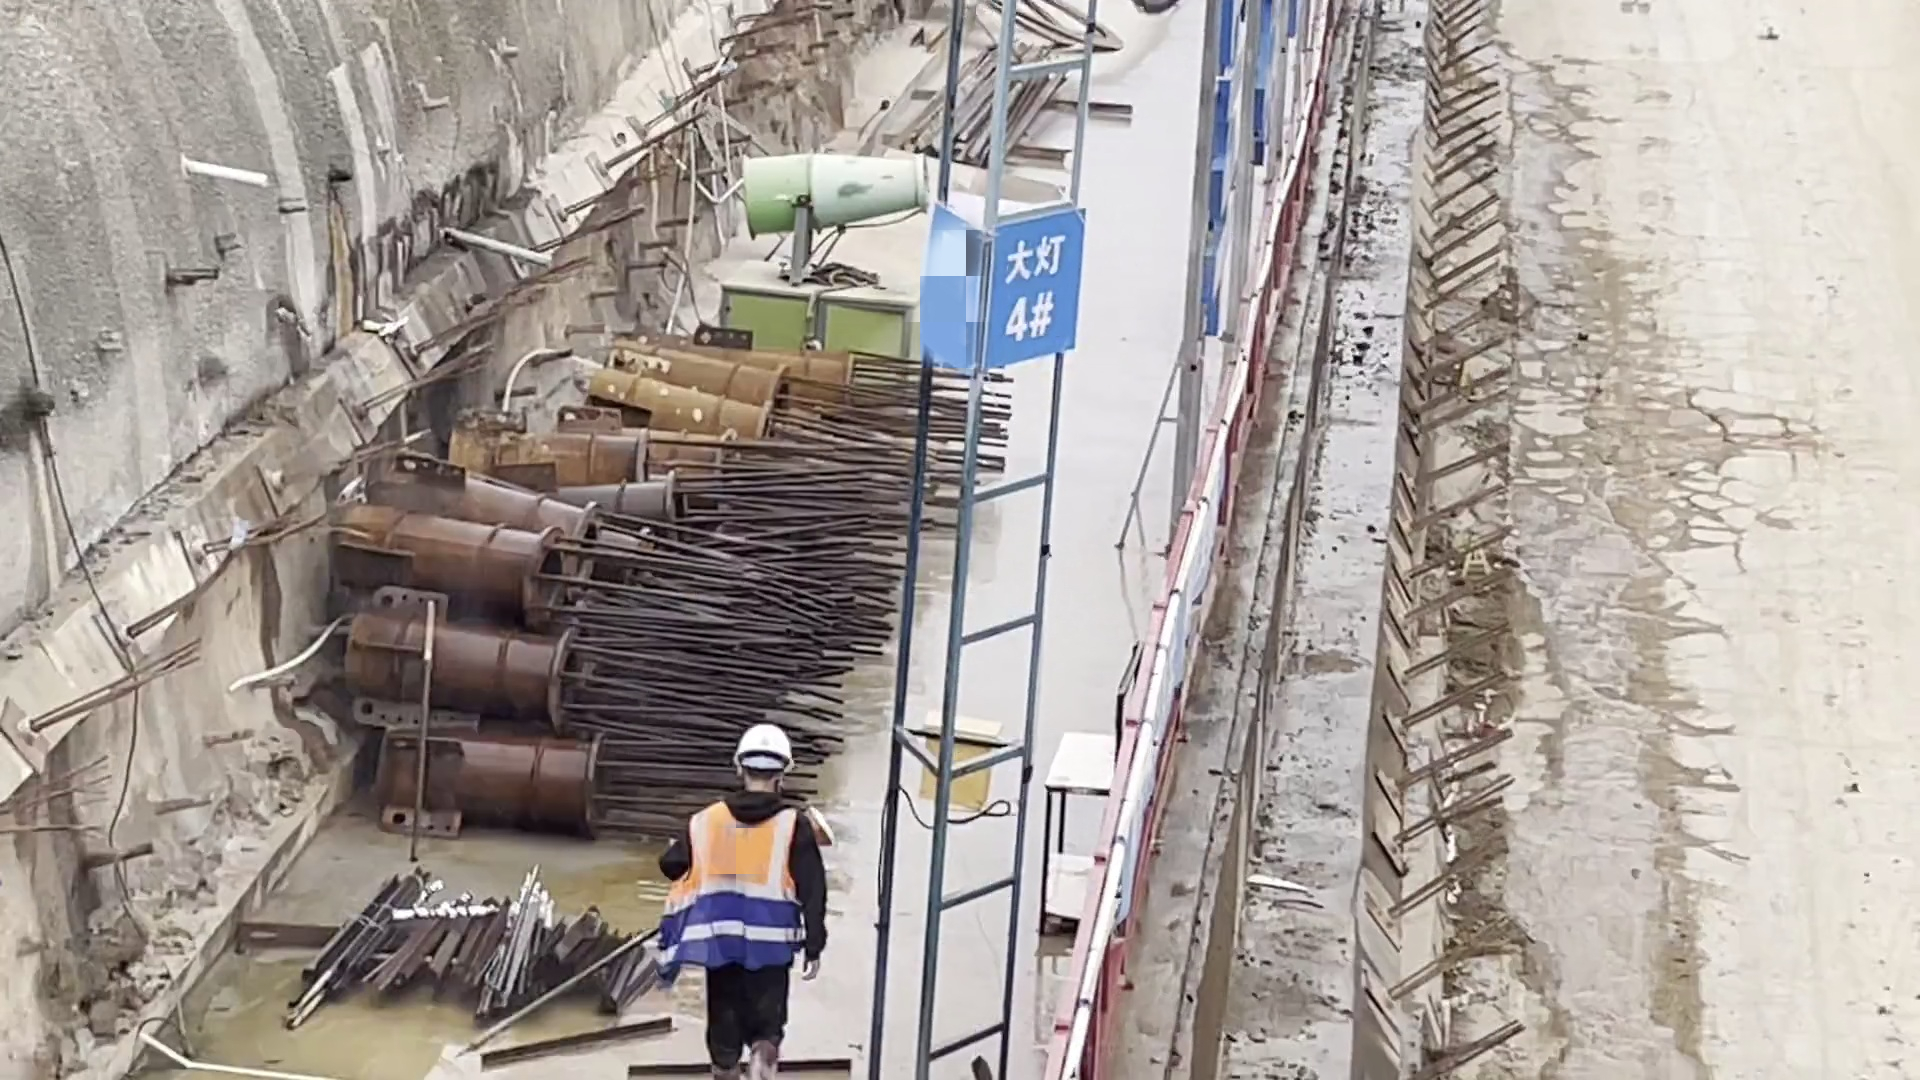ebox: (921, 705, 1010, 808)
fence: (1099, 560, 1184, 867), (1171, 373, 1260, 657), (1040, 838, 1131, 1080), (1235, 130, 1311, 374)
helmet: (724, 719, 825, 791)
person: (632, 718, 861, 1080)
slogan: (896, 192, 1123, 392)
vest: (649, 789, 845, 984)
